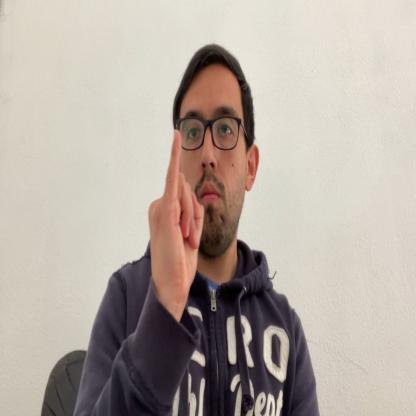I: (148, 131, 204, 304)
